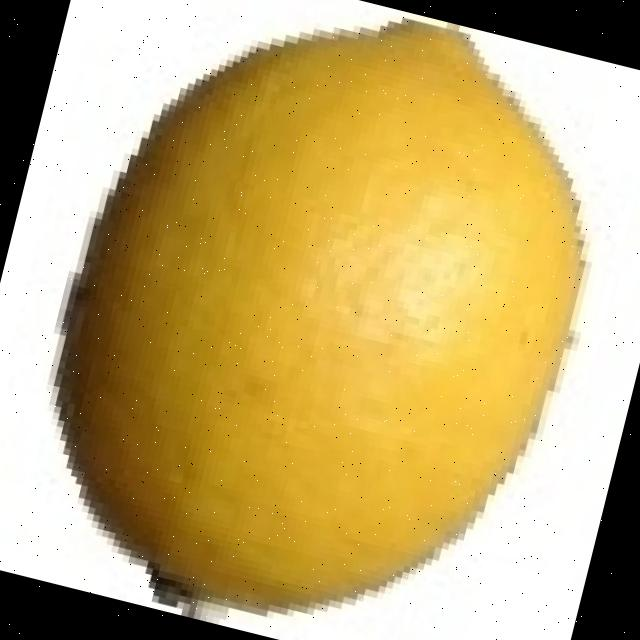lemon: (57, 19, 583, 611)
